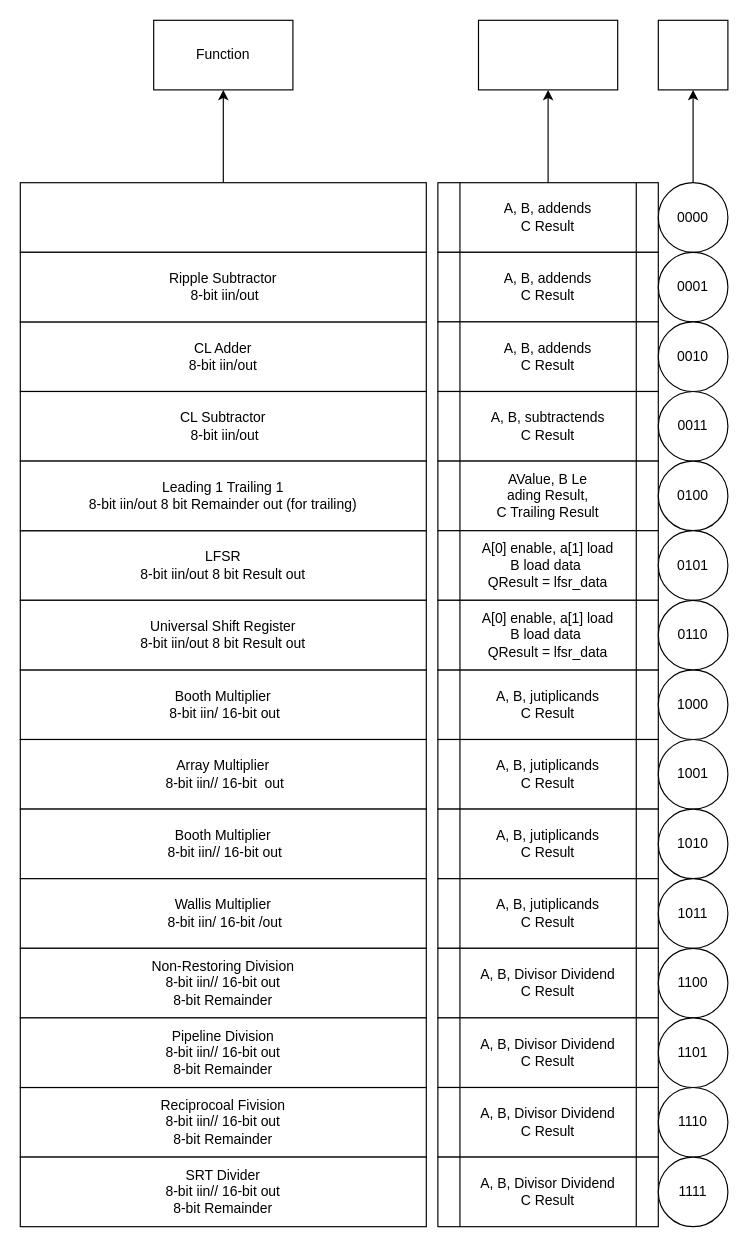
Some shapes in this 748 by 1247 pixel diagram are drawn without their labels. The shapes that lost their labels are listed below. From the top down, each one's centre as x and y in pixels, then its label:
At (547,54): "Output Mapping".
At (692,54): "Encoding".
At (222,217): "Riipple Adder 8-bit iin/out".
